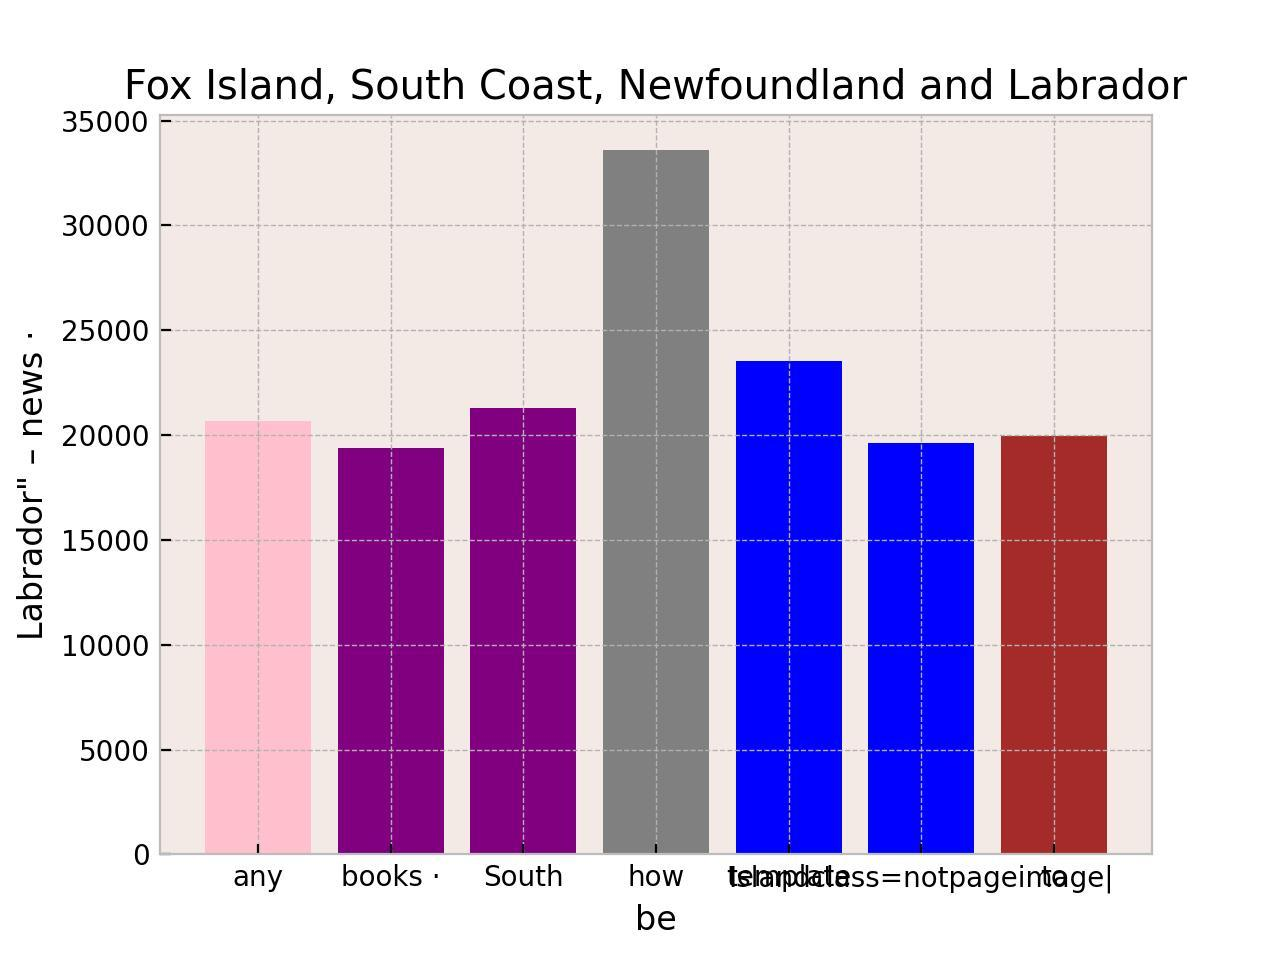axis: (17, 110, 150, 871)
rectangle: (603, 150, 709, 854), (736, 361, 842, 854), (471, 408, 577, 854), (205, 422, 311, 854), (1001, 436, 1107, 854), (868, 444, 974, 854), (338, 449, 444, 854)
